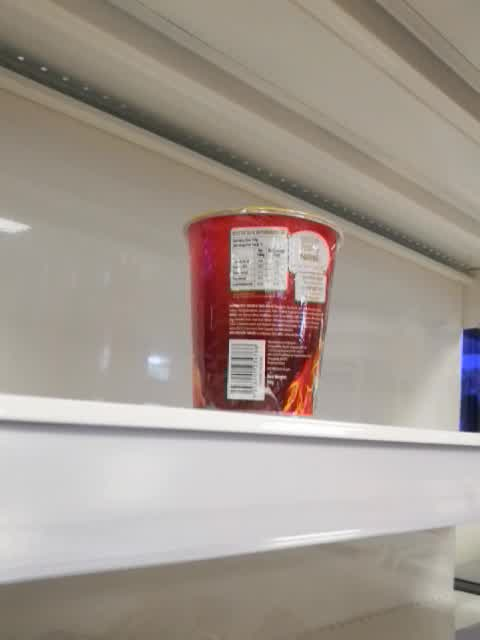maggi: (184, 205, 343, 418)
